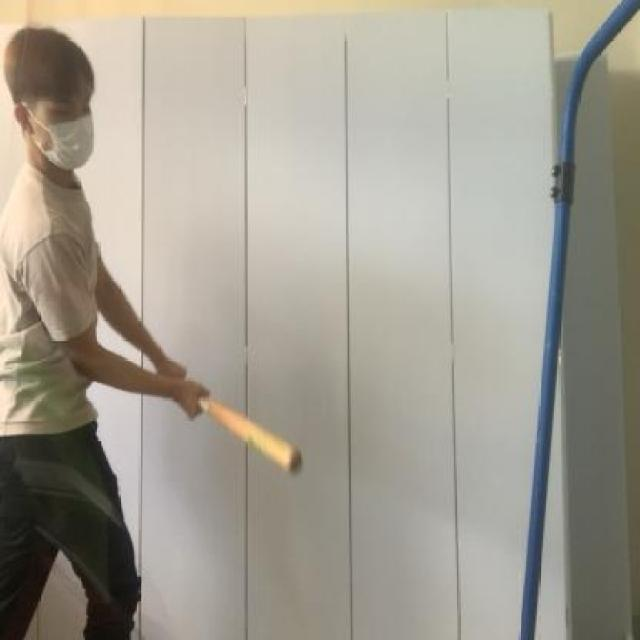baseball: (9, 335, 97, 436)
